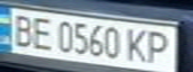0: (51, 18, 75, 54), (103, 24, 124, 61)
5: (69, 20, 90, 56)
6: (87, 22, 106, 58)
B: (6, 11, 36, 47)
E: (27, 15, 57, 51)
K: (124, 26, 151, 64)
P: (142, 28, 175, 65)
